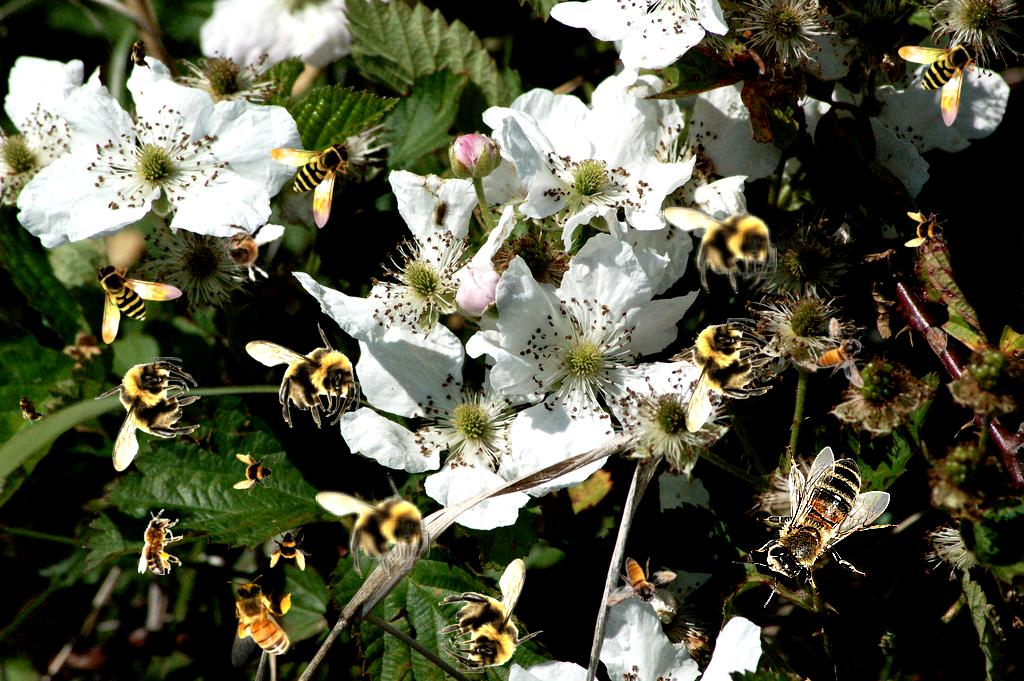Bee: (732, 446, 899, 608), (437, 558, 544, 673), (667, 318, 774, 433), (245, 322, 360, 429), (662, 187, 777, 294), (94, 357, 201, 472), (315, 472, 430, 579), (898, 39, 980, 127), (270, 141, 352, 229), (95, 262, 183, 344), (227, 575, 295, 668), (205, 213, 286, 287), (815, 317, 865, 388), (606, 557, 677, 607), (138, 509, 183, 575), (233, 452, 277, 496), (904, 210, 948, 254), (268, 527, 312, 571), (10, 385, 50, 431), (425, 191, 459, 237), (130, 33, 152, 73)
